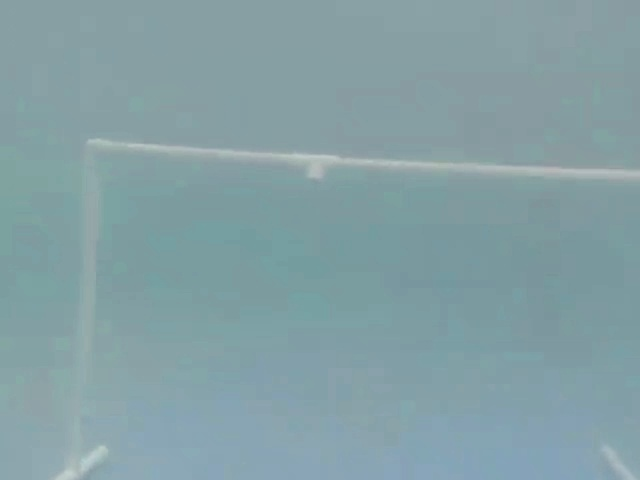gate: (62, 126, 640, 480)
